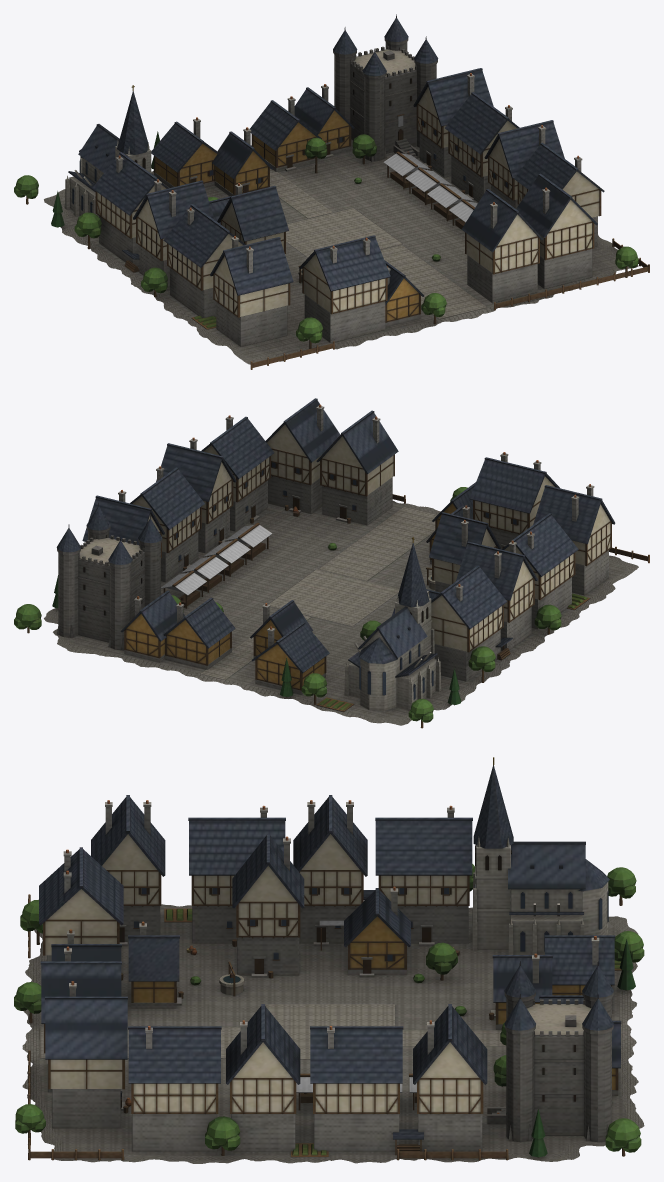
Rendered from kingdoms-town-medium-a-europe.glb.
The picture shows the model from 3 angles, top to bottom: view 1: azimuth 30°, elevation 25°; view 2: azimuth 150°, elevation 25°; view 3: azimuth 270°, elevation 25°; orthographic projection. The views are drawn at different scales.
Visible parts, largest first — view 1: LOD0; view 2: LOD0; view 3: LOD0.
Part boxes in pixels (x1,y1,x2,y2): LOD0: (14,14,649,369); LOD0: (14,398,649,728); LOD0: (14,757,644,1163).
Size of what is drawn, in the model's own units: 6.09 by 1.99 by 6.12.
Materials: 3 (3 with a texture image).
